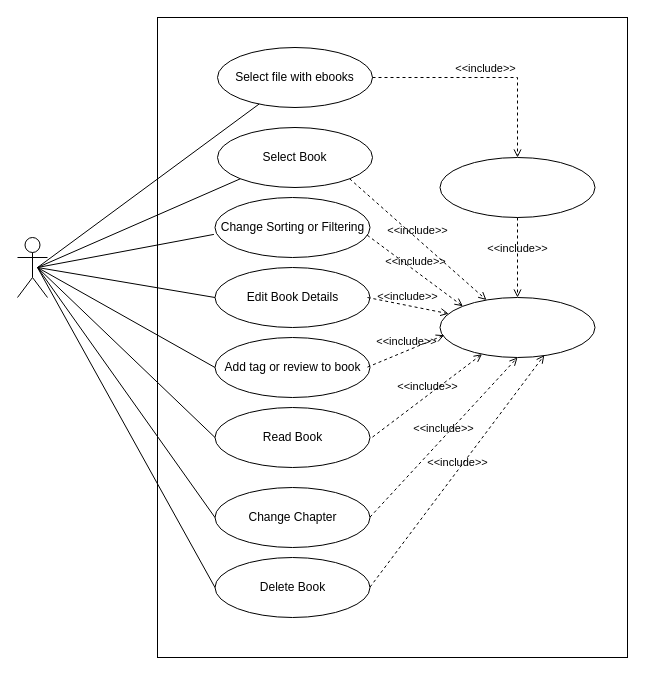
Image size: 645x675. Some labels were removed from this diagram. Each missing label, with the centre of its shape:
"Access Core Data" goes at point 517,327.
"Access File System" goes at point 517,187.
"Actor" goes at point 32,267.
